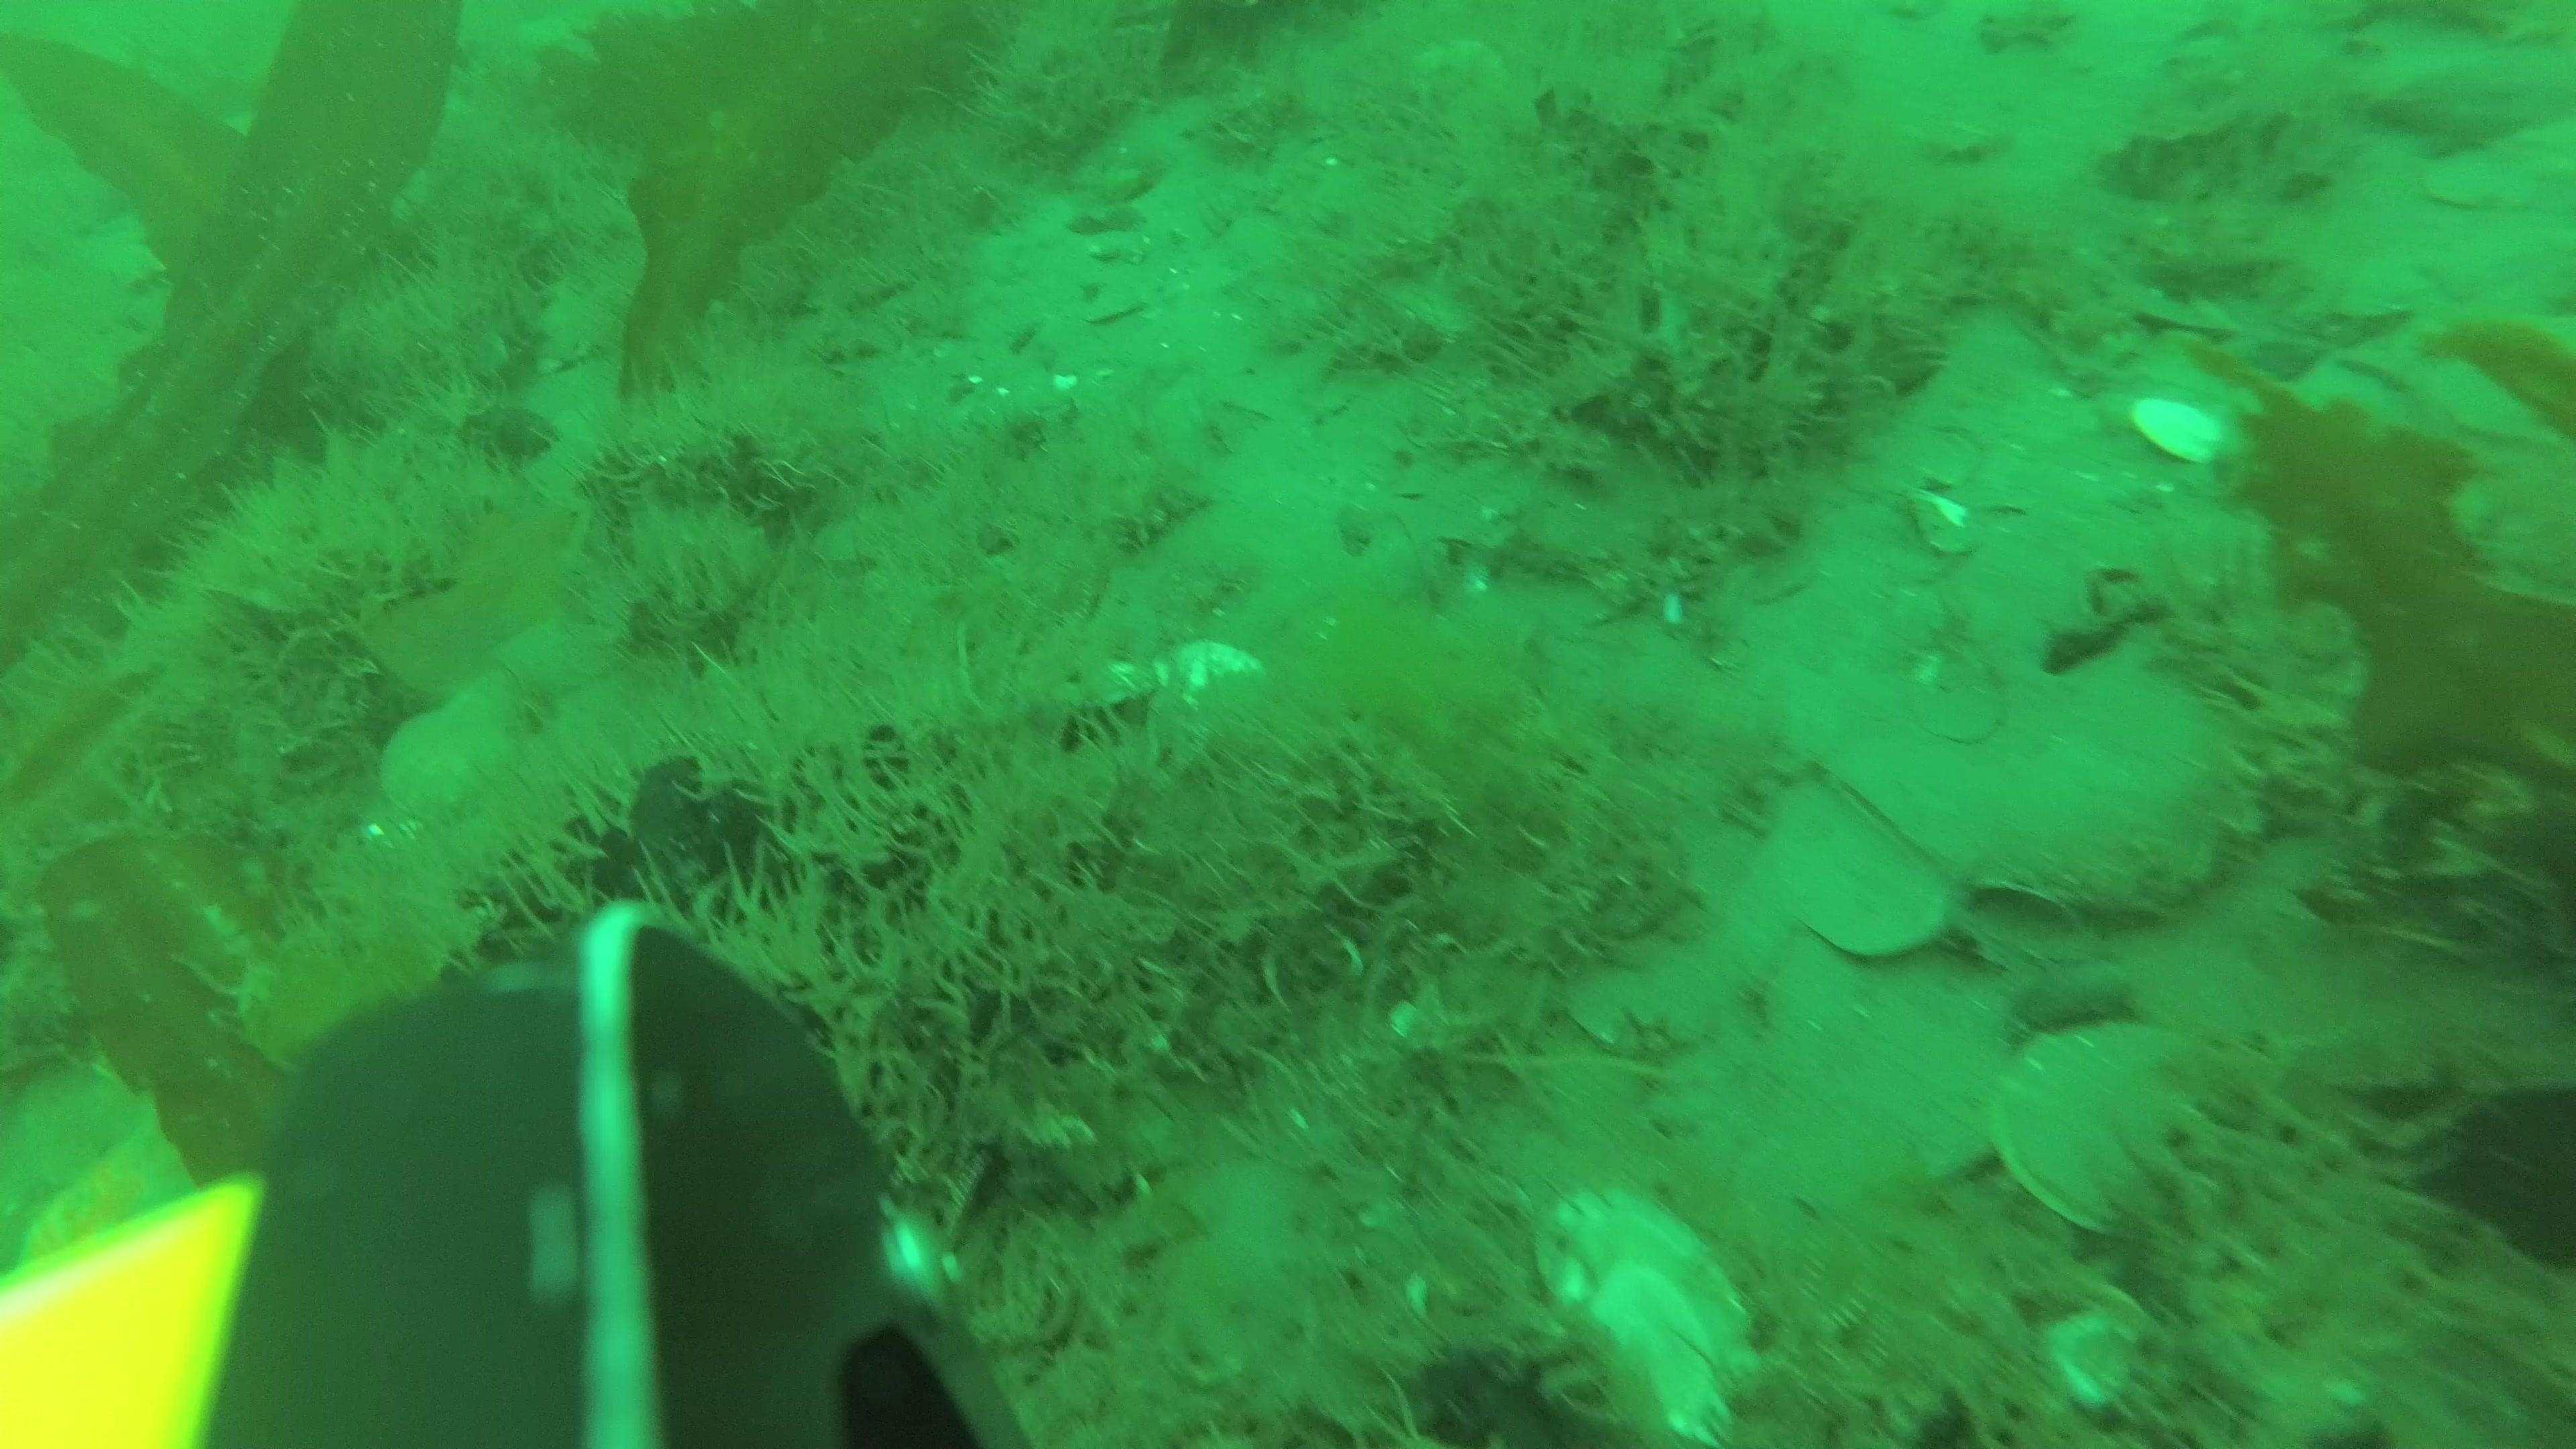scallop: (1990, 1017, 2288, 1237), (1534, 1185, 1757, 1444), (1762, 777, 1953, 962), (380, 697, 527, 832), (1152, 637, 1270, 727)
starfish: (368, 504, 593, 706)
